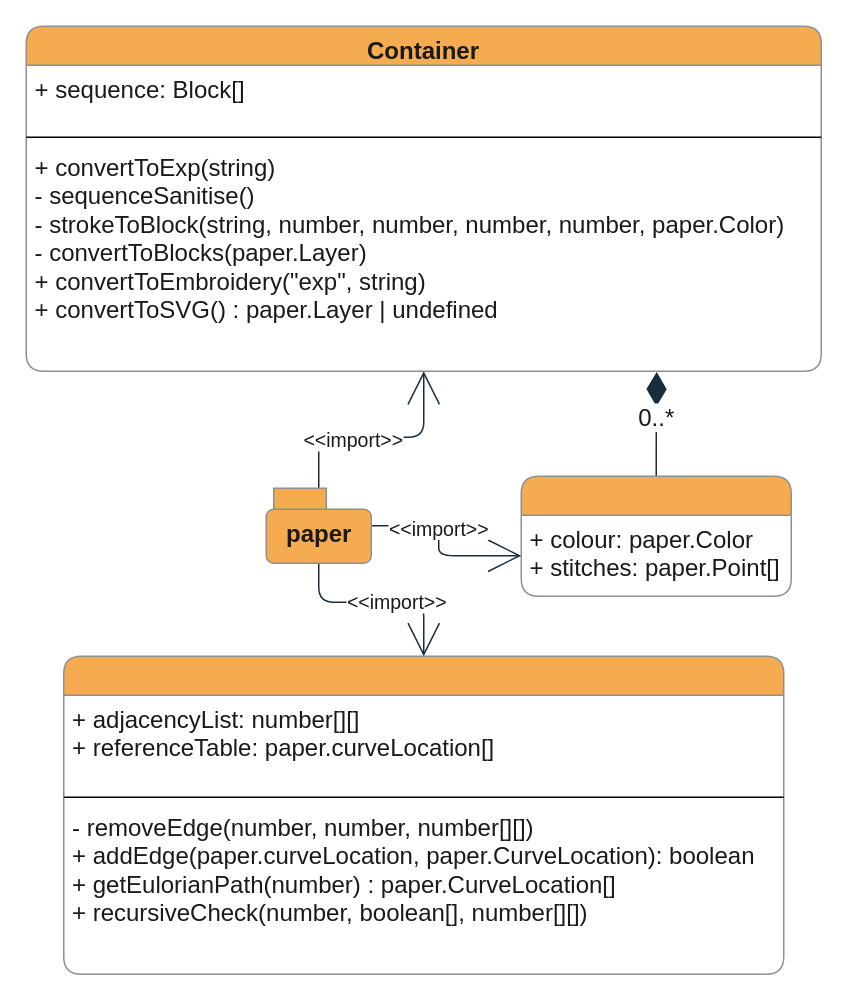
Some shapes in this 848 by 1005 pixel diagram are drawn without their labels. Here are the shapes that lost their labels. From the top down, the box of each, then its label:
(520, 475, 791, 596): Block
(62, 655, 784, 974): Graph
